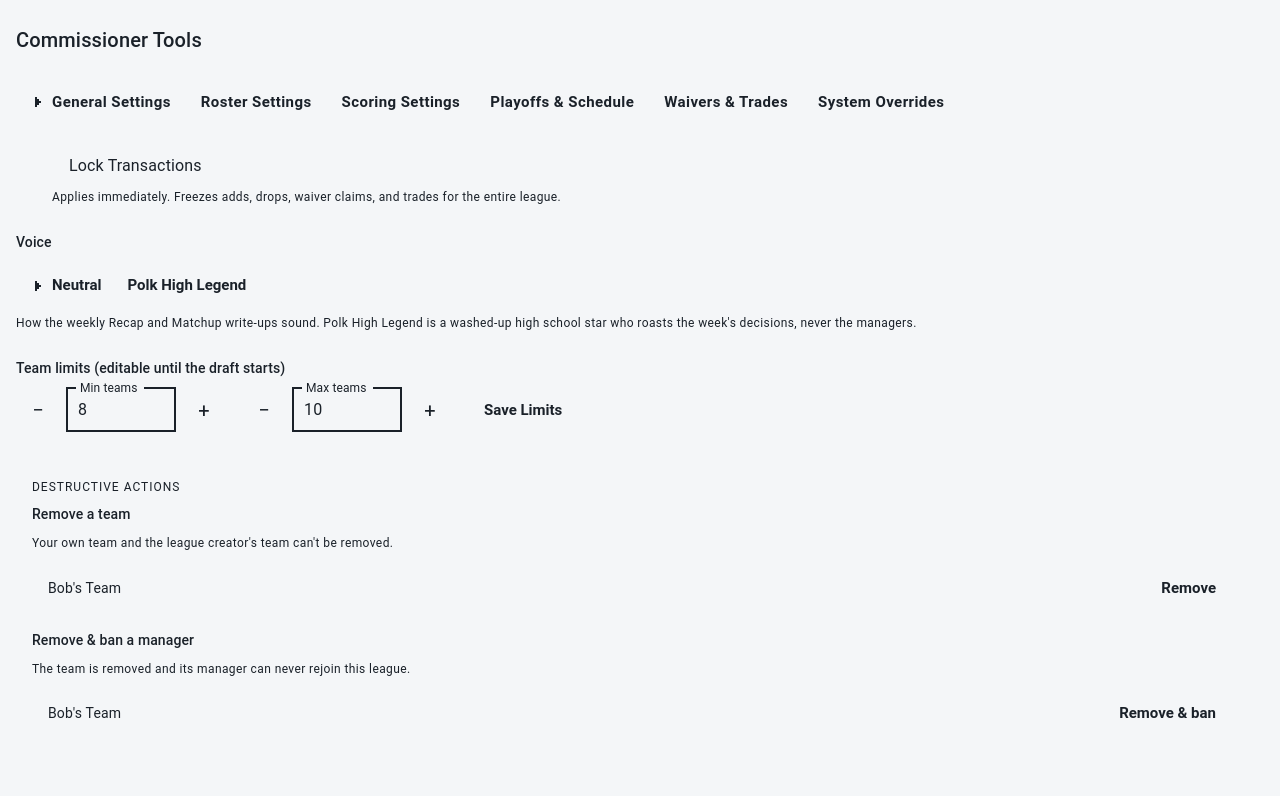
Scenario: Scoring Settings always lists IDP — locked with an enable hint while dpEnabled is false
The width and height of the screenshot is (1280, 796).
Click the tab "Scoring Settings" at coordinates (401, 102), box [326,80,476,124]
(page scrolled)
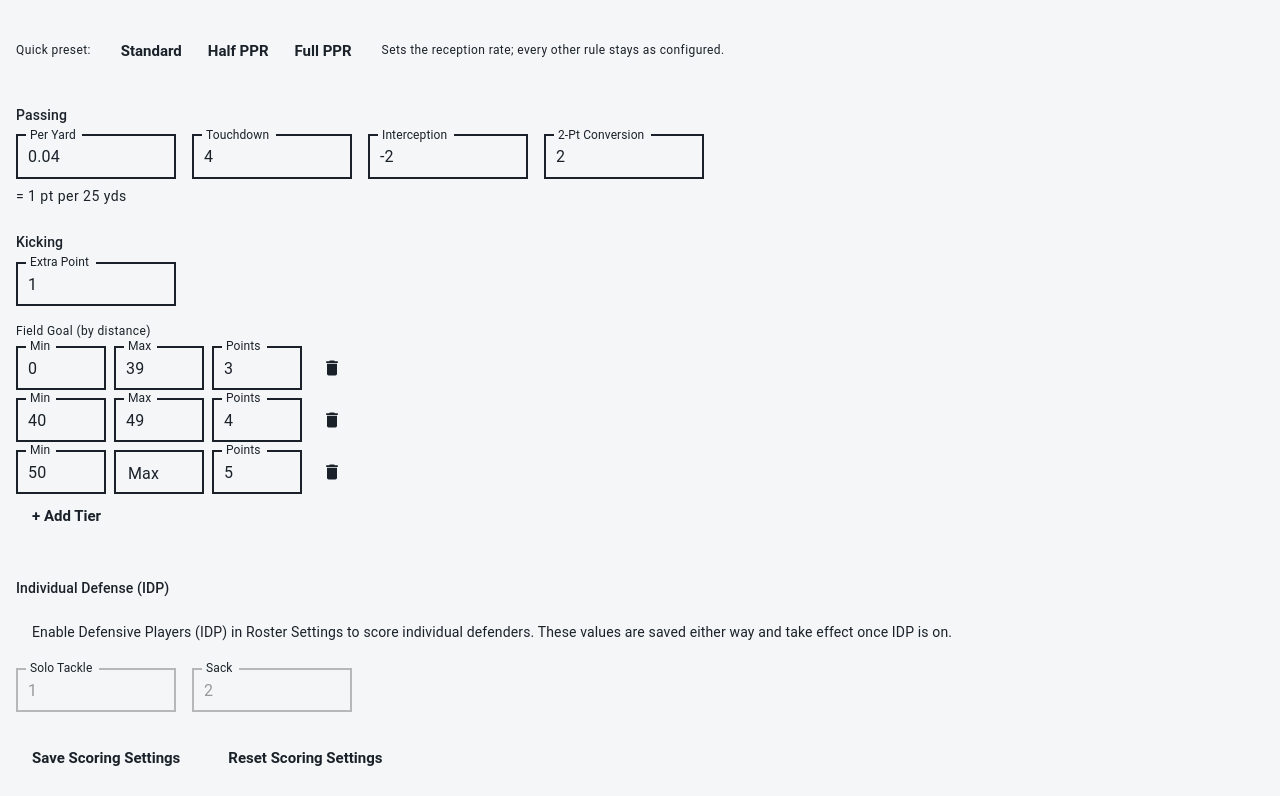
Check: the heading "Passing" is shown, box [16,107,67,123]
Check: the number field labelled "Per Yard" holds "0.04", box [16,135,176,179]
Check: the number field labelled "Touchdown" holds "4", box [192,135,352,179]
